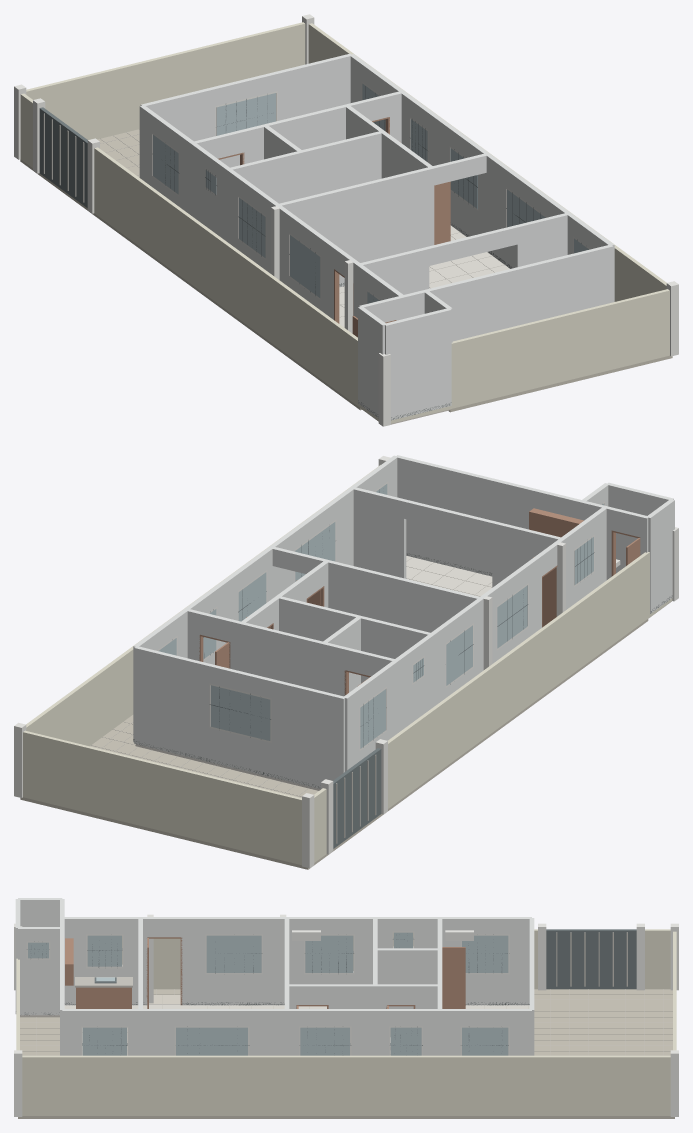
Rendered from house-model.glb.
3 views of the same model, one above another, from view 1: azimuth 30°, elevation 25°; view 2: azimuth 150°, elevation 25°; view 3: azimuth 270°, elevation 25° (orthographic). The views are drawn at different scales.
Visible parts, largest first — view 1: side-passages / site-boundary (×5), kitchen / wall (×4), living / wall (×7), bedroom-suite / wall (×7), bedroom-small / wall (×4), wc-outside / wall (×2), wc-suite / wall (×5), court / site-gate, bedroom-suite / glass (×2), hall / wall (×3), side-passages / site-pier (×3), wc-common / wall (+8 smaller); view 2: side-passages / site-boundary (×4), bedroom-suite / wall (×8), kitchen / wall (×6), living / wall (×7), bedroom-small / wall (×4), wc-outside / wall (×4), wc-common / wall (×2), wc-suite / wall (×5), court / site-floor, bedroom-suite / glass (×2), court / site-gate, hall / wall (×4) (+10 smaller); view 3: side-passages / site-boundary (×5), living / wall (×10), court / site-floor, bedroom-suite / wall (×7), hall / wall (×8), kitchen / wall (×7), court / site-gate, bedroom-small / wall (×6), wc-outside / wall (×6), living / glass (×2), wc-suite / wall (×3), side-passages / site-floor (×2) (+10 smaller).
Part boxes in pixels (box(x1,y1,x2,y2)): side-passages / site-boundary (×5): box(20, 22, 669, 423); kitchen / wall (×4): box(358, 212, 613, 341); living / wall (×7): box(276, 153, 551, 319); bedroom-suite / wall (×7): box(139, 53, 359, 214); bedroom-small / wall (×4): box(226, 131, 410, 249); wc-outside / wall (×2): box(358, 307, 451, 420); wc-suite / wall (×5): box(190, 125, 302, 241); court / site-gate: box(39, 107, 87, 207); bedroom-suite / glass (×2): box(153, 93, 275, 194); hall / wall (×3): box(357, 94, 478, 236); side-passages / site-pier (×3): box(87, 138, 678, 426); wc-common / wall: box(266, 104, 347, 149); side-passages / site-boundary (×4): box(23, 465, 672, 865); bedroom-suite / wall (×8): box(134, 620, 398, 788); kitchen / wall (×6): box(352, 455, 606, 609); living / wall (×7): box(269, 487, 541, 636); bedroom-small / wall (×4): box(279, 596, 483, 706); wc-outside / wall (×4): box(581, 482, 674, 613); wc-common / wall (×2): box(241, 597, 359, 690); wc-suite / wall (×5): box(322, 616, 434, 732); court / site-floor: box(20, 738, 386, 869); bedroom-suite / glass (×2): box(211, 685, 385, 748); court / site-gate: box(333, 748, 381, 848); hall / wall (×4): box(185, 551, 267, 660); side-passages / site-boundary (×5): box(16, 929, 676, 1115); living / wall (×10): box(140, 917, 289, 1055); court / site-floor: box(532, 989, 674, 1118); bedroom-suite / wall (×7): box(440, 917, 531, 1055); hall / wall (×8): box(287, 984, 439, 1055); kitchen / wall (×7): box(60, 917, 140, 1055); court / site-gate: box(546, 929, 636, 989); bedroom-small / wall (×6): box(287, 917, 375, 1054); wc-outside / wall (×6): box(15, 898, 62, 1015); living / glass (×2): box(176, 935, 261, 1055); wc-suite / wall (×3): box(375, 917, 439, 1036); side-passages / site-floor (×2): box(18, 1017, 531, 1118).
Size of the model in its own units: 9.04 by 3.02 by 19.54.
